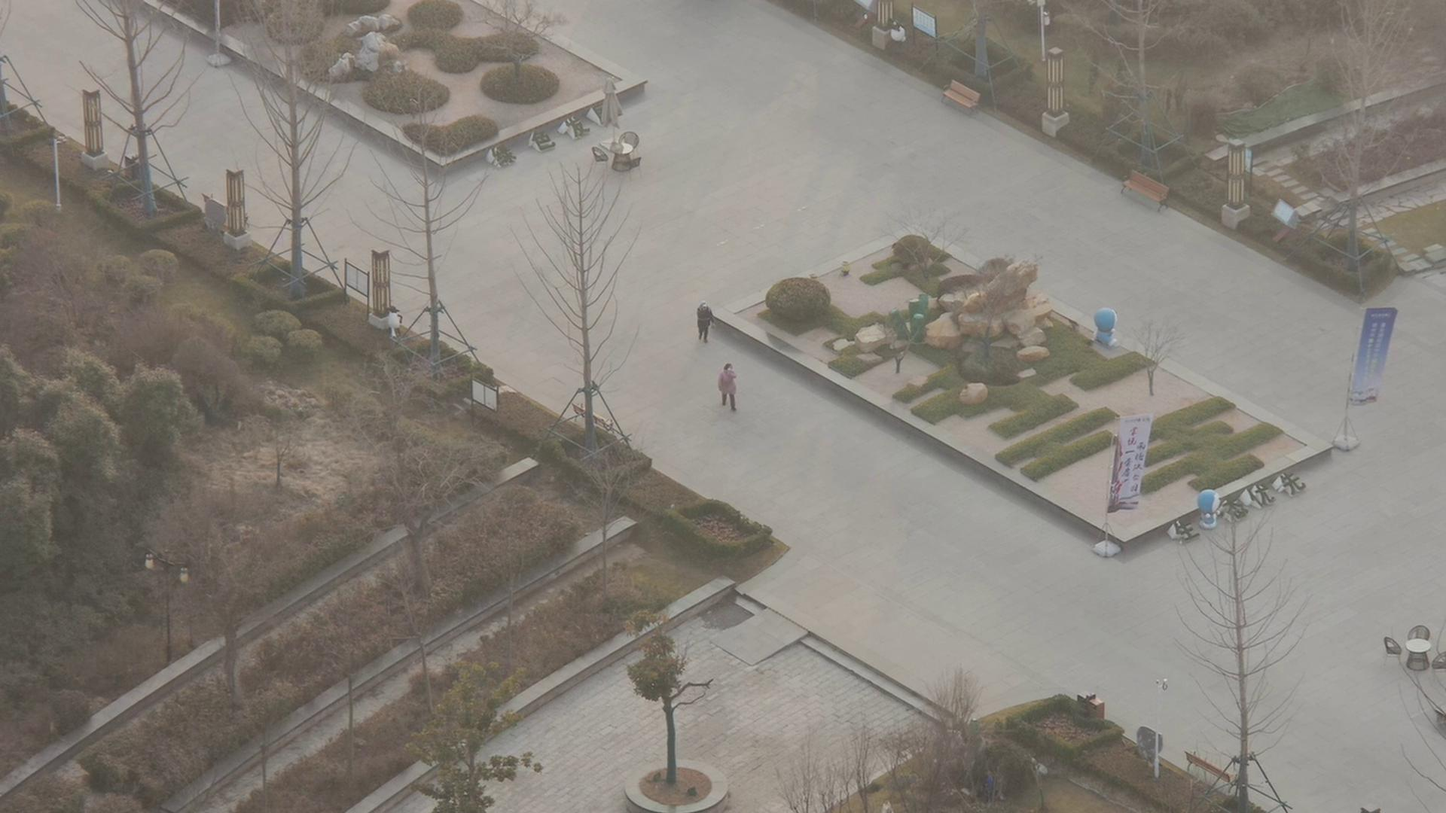human: (685, 279, 718, 346), (713, 353, 741, 408)
